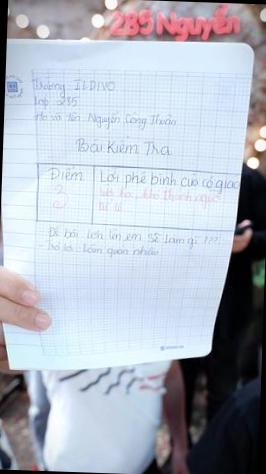text: (107, 0, 242, 45), (45, 224, 220, 250), (97, 168, 240, 198), (34, 108, 179, 132), (96, 184, 224, 211), (45, 240, 161, 263), (72, 132, 174, 158), (31, 74, 118, 100), (30, 94, 79, 114), (46, 164, 86, 184), (50, 184, 72, 212), (97, 198, 126, 214), (166, 342, 186, 352)
